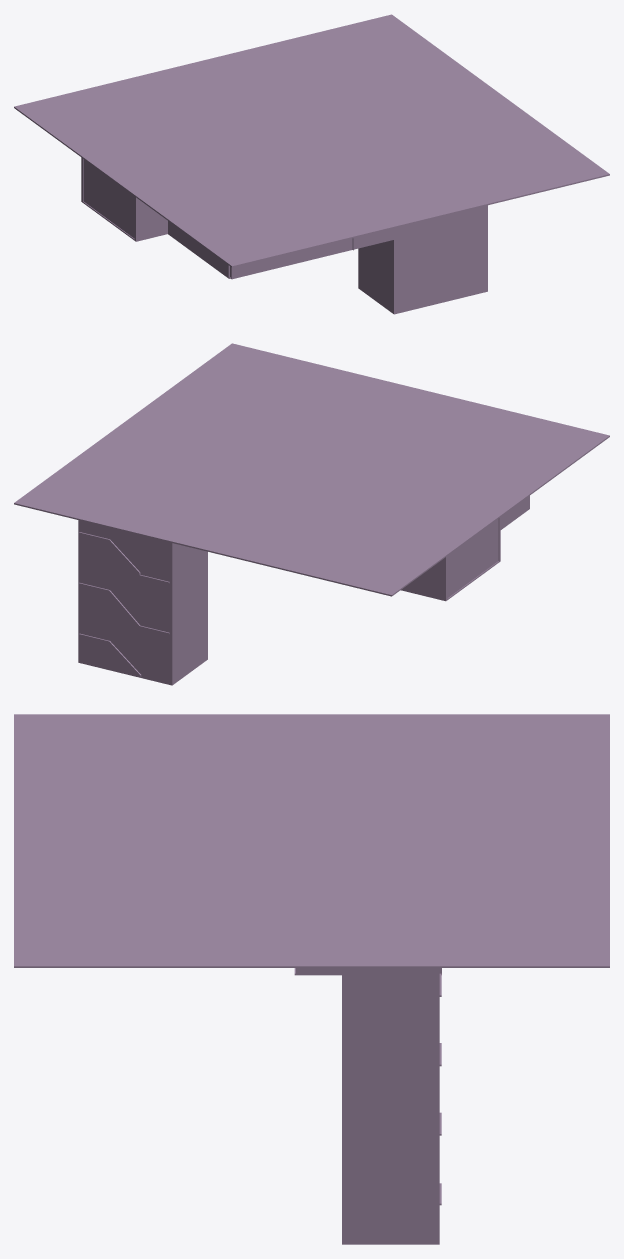
The model's file is penzhuang.fbx.
The picture shows the model from 3 angles, top to bottom: view 1: azimuth 30°, elevation 25°; view 2: azimuth 150°, elevation 25°; view 3: azimuth 270°, elevation 25°; orthographic projection. The views are drawn at different scales.
Visible parts, largest first — view 1: cj_penzhuang; view 2: cj_penzhuang; view 3: cj_penzhuang.
Part boxes in pixels (x1,y1,x2,y2): cj_penzhuang: (14,14,609,314); cj_penzhuang: (14,343,609,685); cj_penzhuang: (14,714,609,1244).
Bounding box in the file's own units: 31.09 × 16.11 × 31.09.
